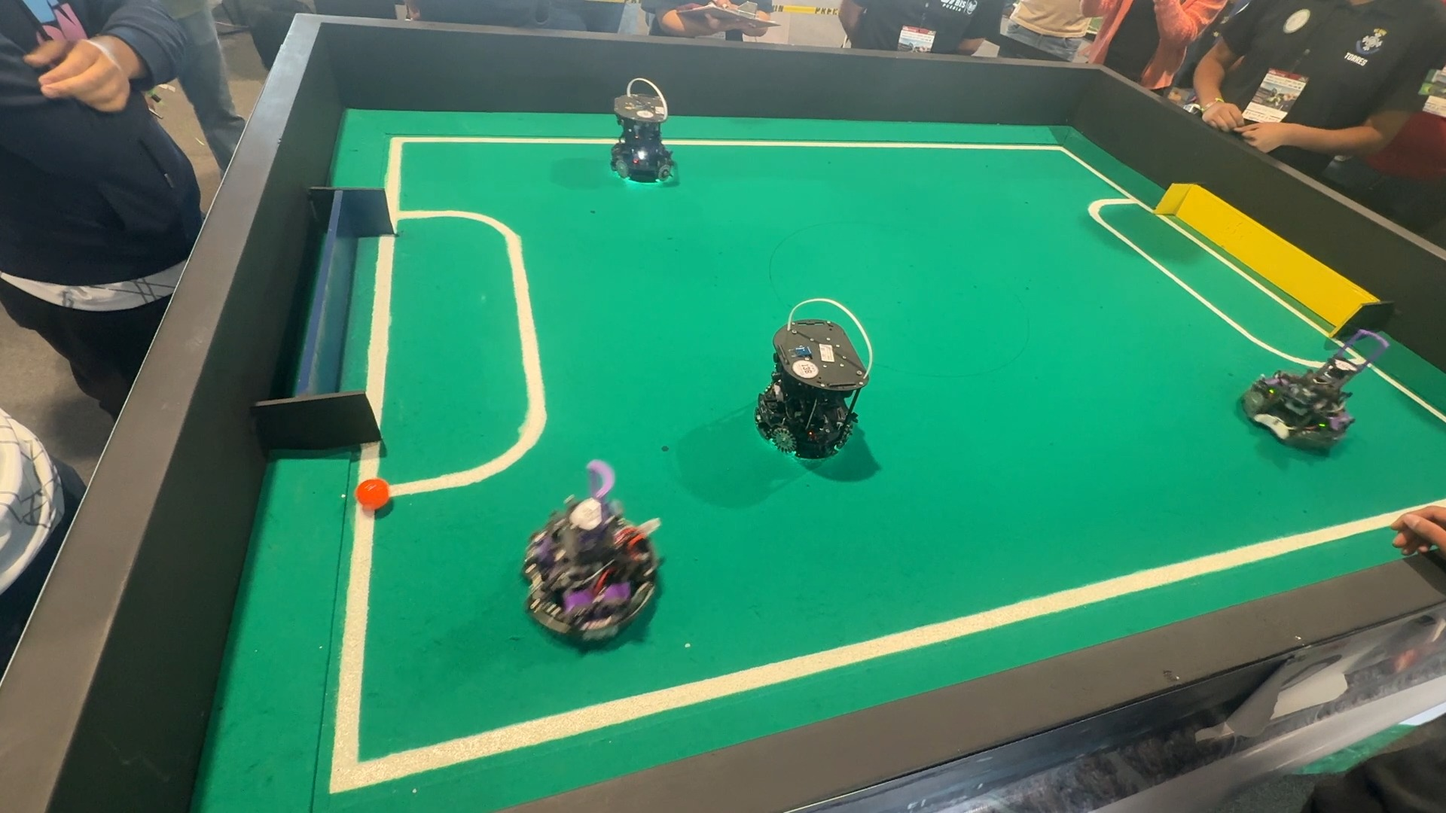Robot: (510, 448, 669, 665), (741, 291, 883, 492), (1221, 342, 1378, 463), (598, 80, 695, 203)
pelota: (351, 472, 402, 516)
